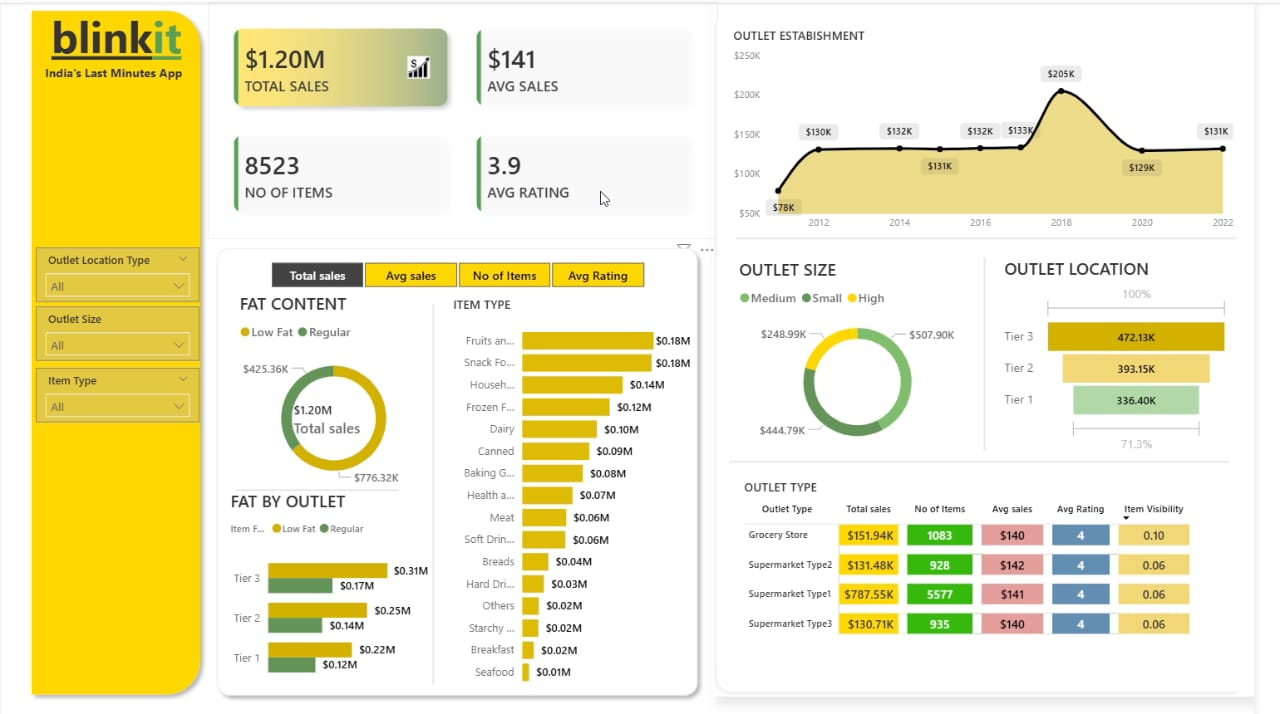

This screenshot's page, from the dashboard's own definition file:
{"tool":"powerbi","page":{"name":"Page 1","canvas":[1400,800],"ordinal":0},"visuals":[{"type":"shape","box":[25.2,0,206.7,782.7],"z":0},{"type":"textbox","box":[39.5,0,178.3,94.7],"z":1000},{"type":"textbox","box":[25.2,64.7,202,30],"z":2000},{"type":"cardVisual","fields":{"Data":["BlinkIT Grocery Data.Total sales","BlinkIT Grocery Data.Avg sales","BlinkIT Grocery Data.No of Items","BlinkIT Grocery Data.Avg Rating"]},"box":[231.5,0,569.8,264.5],"z":3000},{"type":"shape","box":[231.7,265,555,518.3],"z":4000},{"type":"donutChart","title":"FAT CONTENT","fields":{"Category":["BlinkIT Grocery Data.Item Fat Content"],"Y":["BlinkIT Grocery Data.Total sales"]},"box":[261.7,323.3,220,230],"z":5000},{"type":"slicer","fields":{"Values":["Metrics.Metrics"]},"box":[276.2,284,465.5,39.5],"z":6000},{"type":"cardVisual","fields":{"Data":["BlinkIT Grocery Data.Total sales"]},"box":[298.2,399.2,146.8,134.1],"z":7000},{"type":"clusteredBarChart","title":"FAT BY OUTLET","fields":{"Category":["BlinkIT Grocery Data.Outlet Location Type"],"Series":["BlinkIT Grocery Data.Item Fat Content"],"Y":["BlinkIT Grocery Data.Total sales"]},"box":[251.7,544,230.7,229.4],"z":8000},{"type":"shape","box":[262,521.4,183.1,47.1],"z":9000},{"type":"shape","box":[465.5,337,34.3,426.1],"z":10000},{"type":"barChart","title":"ITEM TYPE","fields":{"Category":["BlinkIT Grocery Data.Item Type"],"Y":["BlinkIT Grocery Data.Total sales"]},"box":[499.8,328.1,274.7,445.1],"z":11000},{"type":"shape","box":[794.9,0,605.4,775.8],"z":12000},{"type":"lineChart","title":"OUTLET ESTABISHMENT","fields":{"Category":["BlinkIT Grocery Data.Outlet Establishment Year"],"Y":["BlinkIT Grocery Data.Total sales"]},"box":[812.7,28,568.5,236.6],"z":13000},{"type":"shape","box":[820.3,244.2,558.3,39.4],"z":14000},{"type":"donutChart","title":"OUTLET SIZE","fields":{"Category":["BlinkIT Grocery Data.Outlet Size"],"Y":["BlinkIT Grocery Data.Total sales"]},"box":[819,284.9,274,225],"z":15000},{"type":"shape","box":[1081,284.9,34.3,216.2],"z":16000},{"type":"funnel","title":"OUTLET LOCATION","fields":{"Category":["BlinkIT Grocery Data.Outlet Location Type"],"Y":["Sum(BlinkIT Grocery Data.Sales)"]},"box":[1115.4,283.6,260.7,225],"z":17000},{"type":"shape","box":[812.7,493.5,558.3,39.4],"z":18000},{"type":"pivotTable","title":"OUTLET TYPE","fields":{"Rows":["BlinkIT Grocery Data.Outlet Type"],"Values":["BlinkIT Grocery Data.Total sales","BlinkIT Grocery Data.No of Items","BlinkIT Grocery Data.Avg sales","BlinkIT Grocery Data.Avg Rating","Avg(BlinkIT Grocery Data.Item Visibility)"]},"box":[825.4,532.9,535.4,183.1],"z":19000},{"type":"slicer","fields":{"Values":["BlinkIT Grocery Data.Outlet Location Type"]},"box":[39.4,273.4,183.1,61],"z":20000},{"type":"slicer","fields":{"Values":["BlinkIT Grocery Data.Outlet Size"]},"box":[39.4,339.6,183.1,61],"z":21000},{"type":"slicer","fields":{"Values":["BlinkIT Grocery Data.Item Type"]},"box":[39.4,408.2,183.1,61],"z":22000}]}

Visuals, with their boxes in screenshot pixels (x1, y1, x2, y2), scaled from the page's 1400x800 canvas onto the 1280x714 screenshot:
shape: x1=23, y1=0, x2=212, y2=699
textbox: x1=36, y1=0, x2=199, y2=85
textbox: x1=23, y1=58, x2=208, y2=85
cardVisual - BlinkIT Grocery Data.Total sales x BlinkIT Grocery Data.Avg sales: x1=212, y1=0, x2=733, y2=236
shape: x1=212, y1=237, x2=719, y2=699
"FAT CONTENT" donutChart: x1=239, y1=289, x2=440, y2=494
slicer - Metrics.Metrics: x1=253, y1=253, x2=678, y2=289
cardVisual - BlinkIT Grocery Data.Total sales: x1=273, y1=356, x2=407, y2=476
"FAT BY OUTLET" clusteredBarChart: x1=230, y1=486, x2=441, y2=690
shape: x1=240, y1=465, x2=407, y2=507
shape: x1=426, y1=301, x2=457, y2=681
"ITEM TYPE" barChart: x1=457, y1=293, x2=708, y2=690
shape: x1=727, y1=0, x2=1279, y2=692
"OUTLET ESTABISHMENT" lineChart: x1=743, y1=25, x2=1263, y2=236
shape: x1=750, y1=218, x2=1260, y2=253
"OUTLET SIZE" donutChart: x1=749, y1=254, x2=999, y2=455
shape: x1=988, y1=254, x2=1020, y2=447
"OUTLET LOCATION" funnel: x1=1020, y1=253, x2=1258, y2=454
shape: x1=743, y1=440, x2=1253, y2=476
"OUTLET TYPE" pivotTable: x1=755, y1=476, x2=1244, y2=639
slicer - BlinkIT Grocery Data.Outlet Location Type: x1=36, y1=244, x2=203, y2=298
slicer - BlinkIT Grocery Data.Outlet Size: x1=36, y1=303, x2=203, y2=358
slicer - BlinkIT Grocery Data.Item Type: x1=36, y1=364, x2=203, y2=419
